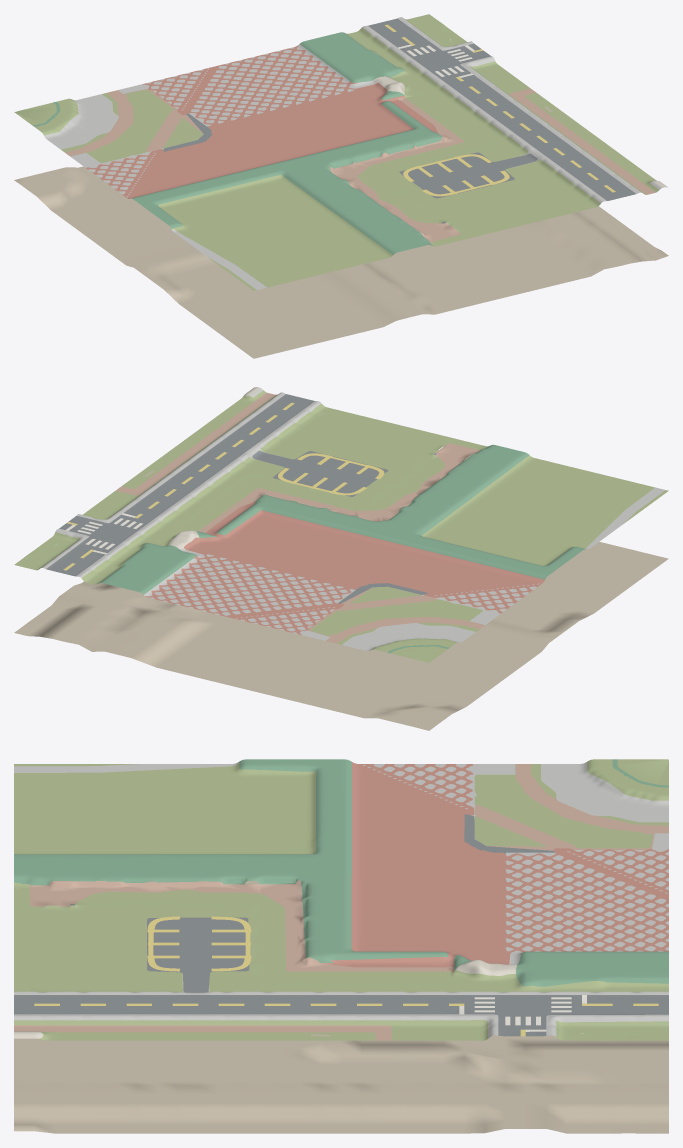
3 views of the same model, one above another, from view 1: azimuth 30°, elevation 25°; view 2: azimuth 150°, elevation 25°; view 3: azimuth 270°, elevation 25° (orthographic). The views are drawn at different scales.
Parts seen in each view (by area): view 1: s_-11_0__soil, s_-11_0__grass, s_-11_0__red_court, s_-11_0__stone_paving, s_-11_0__green_court, s_-11_0__asphalt, s_-11_0__brick_paving, s_-11_0__yellow_marking; view 2: s_-11_0__soil, s_-11_0__grass, s_-11_0__red_court, s_-11_0__stone_paving, s_-11_0__green_court, s_-11_0__asphalt, s_-11_0__brick_paving, s_-11_0__yellow_marking; view 3: s_-11_0__grass, s_-11_0__soil, s_-11_0__red_court, s_-11_0__green_court, s_-11_0__stone_paving, s_-11_0__asphalt, s_-11_0__brick_paving, s_-11_0__yellow_marking, s_-11_0__paving, s_-11_0__white_marking.
Boxes of the visible parts, <box> form: s_-11_0__soil: <box>14,106,668,358</box>; s_-11_0__grass: <box>14,14,658,290</box>; s_-11_0__red_court: <box>86,45,438,198</box>; s_-11_0__stone_paving: <box>44,17,661,289</box>; s_-11_0__green_court: <box>33,32,442,254</box>; s_-11_0__asphalt: <box>163,18,635,223</box>; s_-11_0__brick_paving: <box>65,88,655,242</box>; s_-11_0__yellow_marking: <box>385,24,615,196</box>; s_-11_0__soil: <box>14,471,668,730</box>; s_-11_0__grass: <box>14,390,668,662</box>; s_-11_0__red_court: <box>145,501,544,634</box>; s_-11_0__stone_paving: <box>41,388,665,650</box>; s_-11_0__green_court: <box>98,444,584,653</box>; s_-11_0__asphalt: <box>46,394,436,603</box>; s_-11_0__brick_paving: <box>116,392,484,643</box>; s_-11_0__yellow_marking: <box>63,402,384,570</box>; s_-11_0__grass: <box>14,759,668,1040</box>; s_-11_0__soil: <box>14,881,668,1133</box>; s_-11_0__red_court: <box>321,762,668,971</box>; s_-11_0__green_court: <box>14,759,668,986</box>; s_-11_0__stone_paving: <box>14,762,668,1038</box>; s_-11_0__asphalt: <box>14,814,668,1036</box>; s_-11_0__brick_paving: <box>14,764,668,1040</box>; s_-11_0__yellow_marking: <box>34,916,658,1036</box>; s_-11_0__paving: <box>14,956,624,1038</box>; s_-11_0__white_marking: <box>459,995,586,1031</box>.
Bounding box in the file's own units: 128 × 22.01 × 128.
